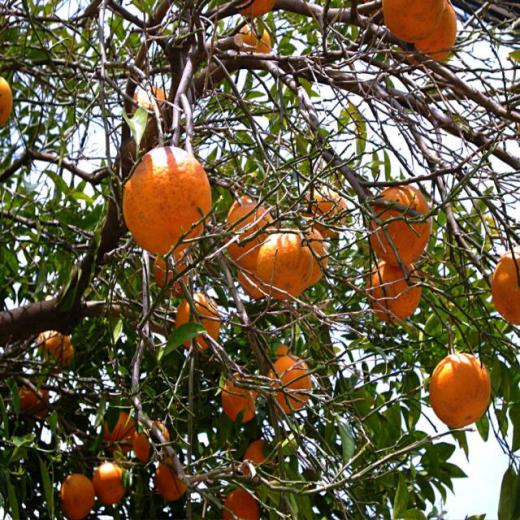Grape: (225, 187, 347, 301), (123, 146, 211, 257), (367, 184, 431, 268), (429, 350, 491, 430), (367, 258, 421, 324), (175, 293, 220, 353), (267, 355, 311, 415), (382, 0, 444, 42), (414, 0, 456, 59), (490, 247, 520, 326), (222, 372, 262, 423), (153, 251, 194, 297), (242, 440, 276, 489), (59, 475, 95, 519), (133, 419, 169, 463), (103, 412, 137, 457), (153, 456, 187, 500), (92, 462, 126, 504), (18, 380, 49, 424), (131, 86, 167, 120), (223, 488, 260, 520), (46, 333, 72, 375), (236, 24, 270, 52), (231, 0, 278, 18), (36, 329, 58, 360), (0, 76, 12, 128), (264, 344, 292, 360)
